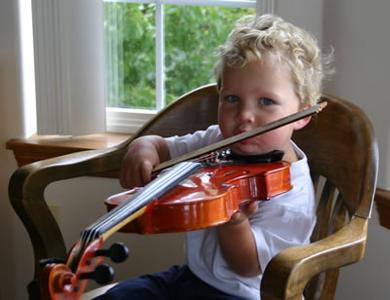person: (119, 15, 324, 300)
